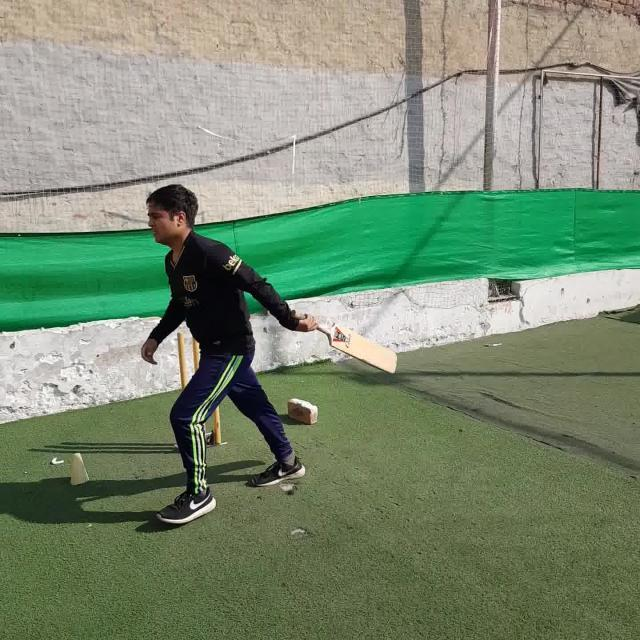bat: (291, 310, 397, 372)
